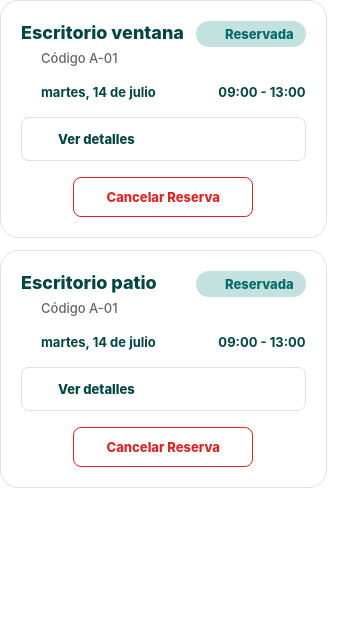
Test: ReservationCard location details › mantiene independiente el detalle de cada tarjeta
What coordinates should you click on to do the following:
click the button with aria-label "Ver detalles de ubicación"
I would click on:
 (96, 389)
Its box is [21,367,306,411].
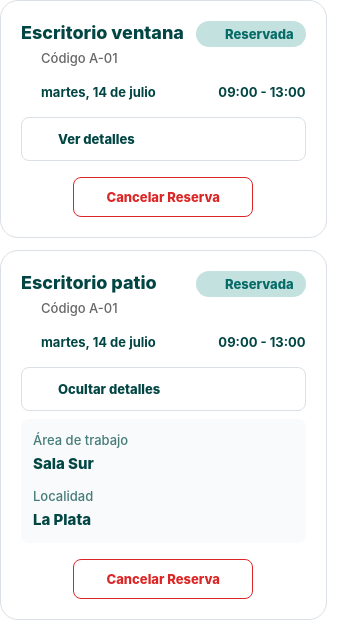
Expected: the text "Escritorio ventana" is shown, [21,21,184,45]
Now the text "Sala Sur" is shown, box [33,454,94,473]
